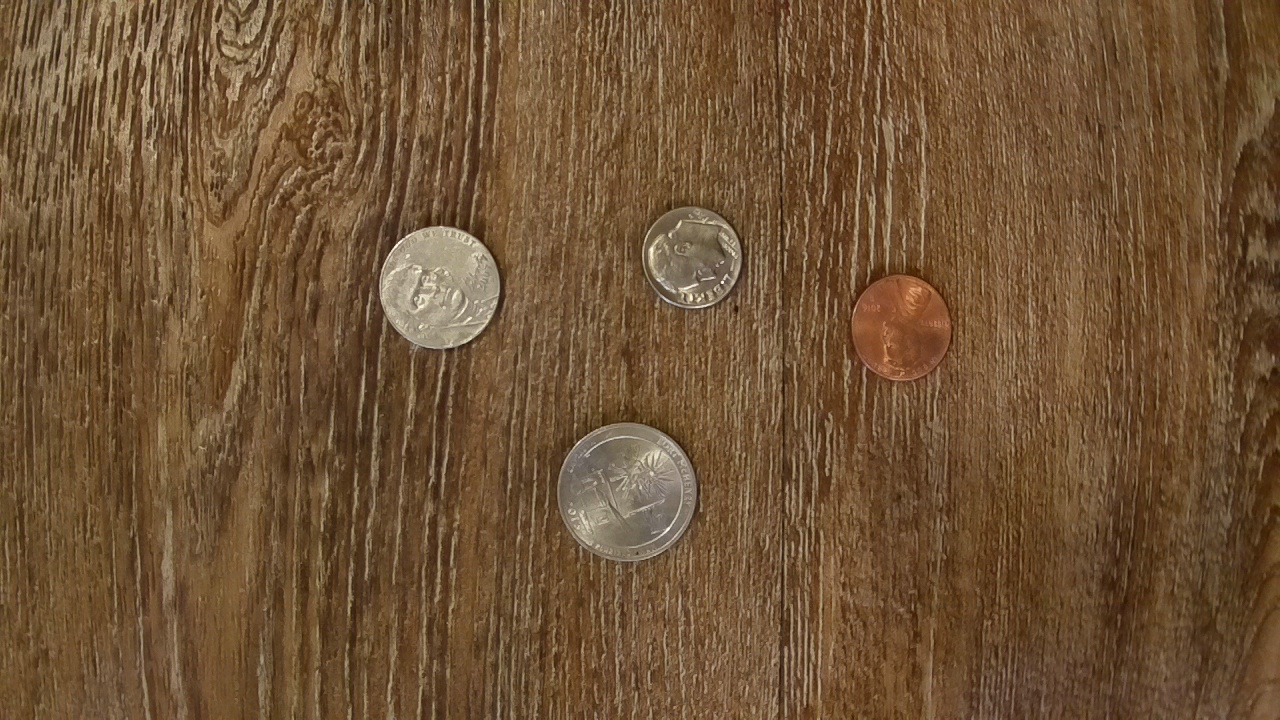dime: (640, 202, 748, 312)
nickel: (374, 222, 504, 352)
penny: (847, 270, 955, 384)
quarter: (556, 417, 700, 567)
